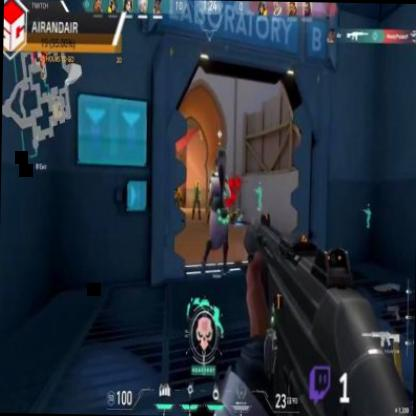enemy: (192, 180, 202, 221), (170, 182, 180, 218)
enemy_head: (174, 183, 178, 191), (196, 180, 199, 188)
